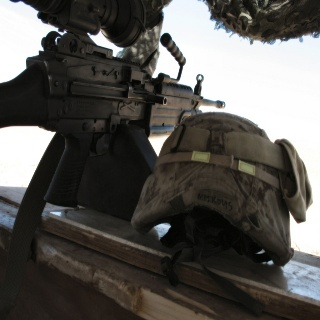rifle: (2, 29, 227, 148)
